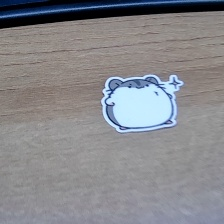mouse: (97, 70, 187, 139)
